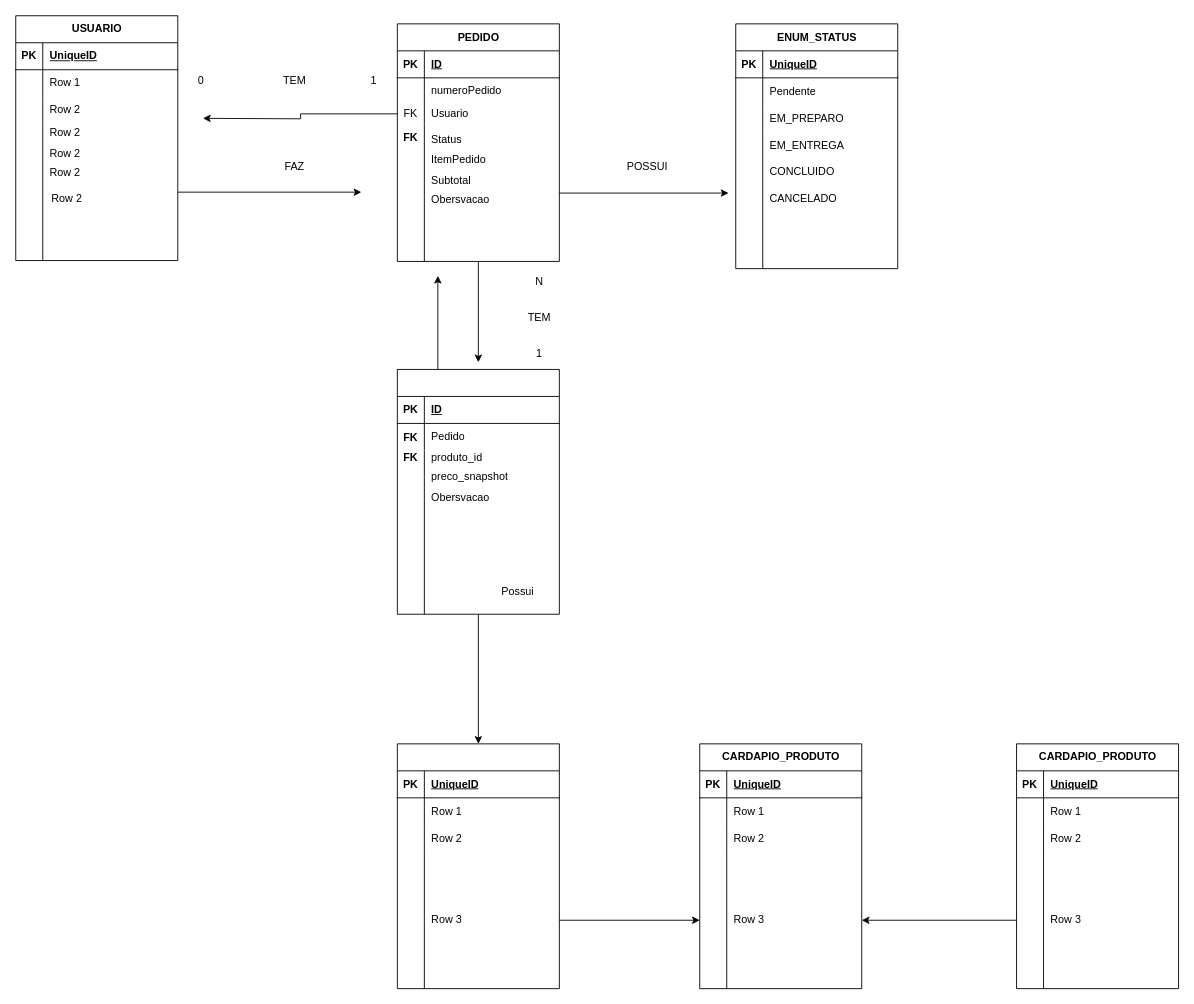
Image size: 1194x1004. Some labels were removed from this diagram. Here are the shapes that lost their labels. From the top down, the box of each, then its label:
(396, 369, 559, 614): ITEM_PEDIDO
(396, 743, 559, 989): PRODUTO
